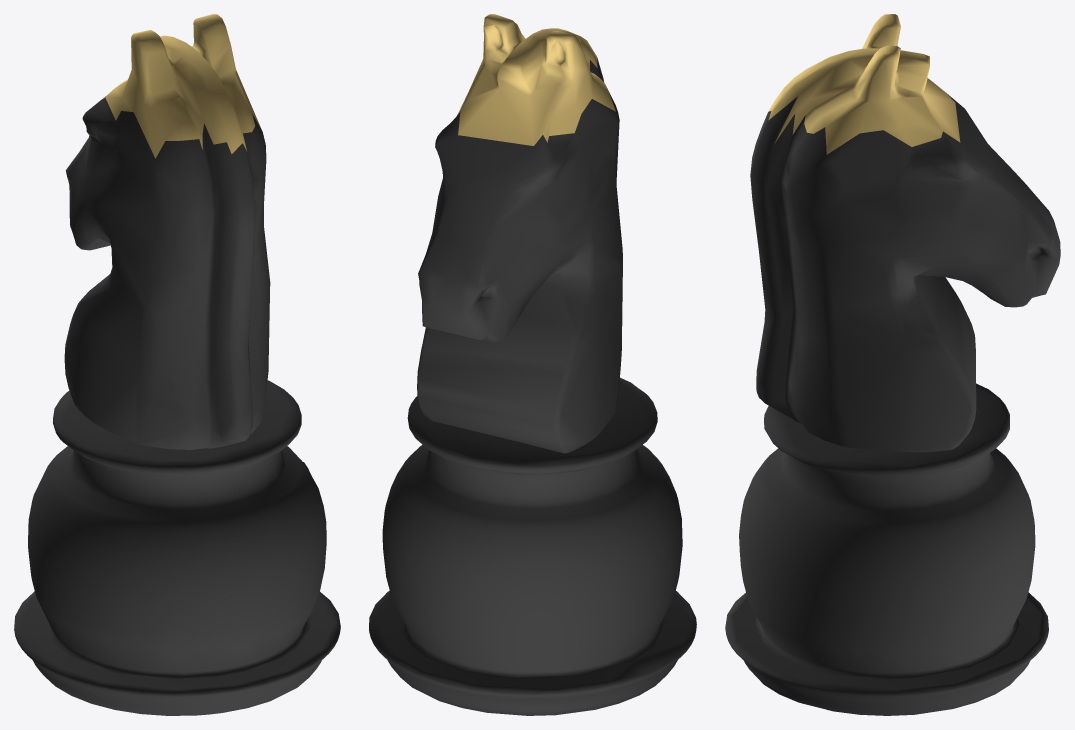
Rendered from gercek7_n_b.glb.
The picture shows the model from 3 angles, left to right: view 1: azimuth 30°, elevation 25°; view 2: azimuth 150°, elevation 25°; view 3: azimuth 270°, elevation 25°; orthographic projection.
Parts seen in each view (by area): view 1: n_b; view 2: n_b; view 3: n_b.
Boxes of the visible parts, box(x1,y1,x2,y2) form: n_b: box(14, 14, 340, 715); n_b: box(369, 14, 696, 715); n_b: box(725, 14, 1060, 715).
Bounding box in the file's own units: 0.4214 × 0.9 × 0.4363.
